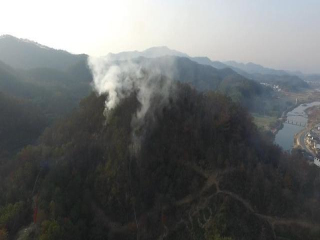smoke: (81, 50, 196, 140)
